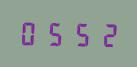five: (43, 19, 67, 46), (68, 20, 92, 47)
two: (93, 20, 117, 47)
zero: (18, 19, 42, 46)
